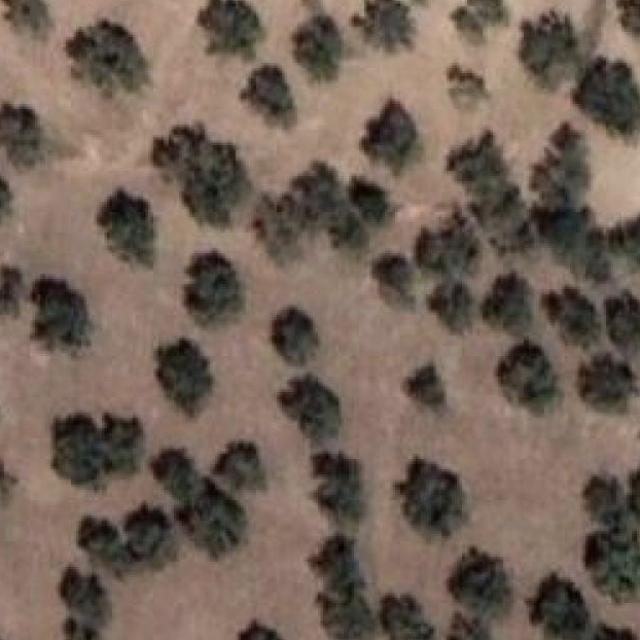Tree: (153, 124, 251, 226), (66, 18, 148, 96), (539, 205, 613, 282), (532, 122, 593, 211), (395, 457, 462, 536), (518, 9, 582, 90), (575, 58, 640, 136), (498, 338, 559, 414), (416, 207, 480, 277), (179, 488, 243, 558), (156, 339, 214, 416), (30, 277, 90, 350), (184, 251, 244, 324), (362, 99, 420, 173), (97, 188, 152, 266), (280, 374, 341, 444), (306, 529, 368, 597), (452, 546, 512, 616), (52, 412, 105, 488), (529, 575, 590, 640), (198, 0, 262, 60), (585, 534, 640, 602), (61, 567, 112, 640), (542, 287, 600, 347), (316, 584, 378, 640), (292, 14, 344, 80), (580, 354, 638, 413), (480, 272, 532, 336), (316, 454, 363, 524), (241, 71, 296, 130), (352, 0, 413, 50), (79, 516, 129, 575), (97, 413, 147, 470), (272, 308, 321, 366), (218, 441, 269, 496), (580, 474, 631, 529), (0, 104, 44, 167), (296, 159, 340, 219), (125, 504, 172, 560), (349, 174, 399, 224), (151, 447, 202, 496), (603, 284, 640, 351), (429, 282, 475, 334), (383, 598, 437, 640), (452, 0, 508, 39), (608, 212, 640, 272), (326, 210, 369, 254), (406, 364, 446, 408), (448, 66, 488, 110), (374, 253, 412, 292), (4, 0, 51, 31), (0, 265, 22, 318), (239, 621, 285, 640), (618, 0, 640, 35), (596, 623, 640, 640), (0, 160, 11, 224), (0, 457, 14, 500)
